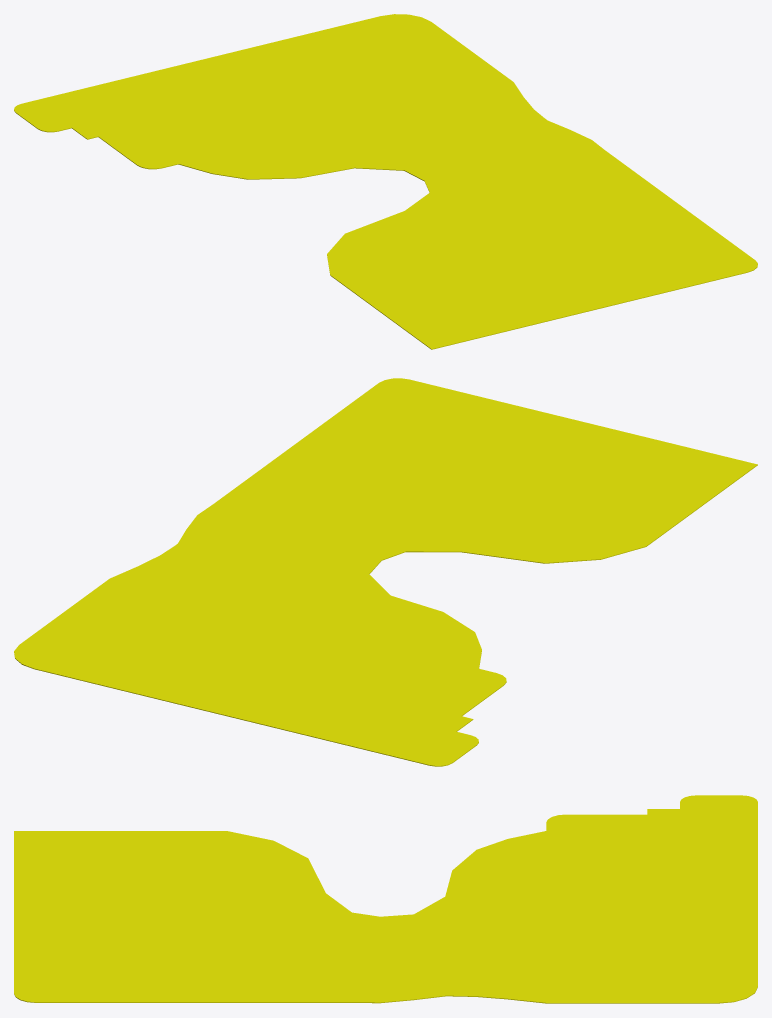
The model's file is sm_hana_building_9f_ceiling.glb.
The picture shows the model from 3 angles, top to bottom: view 1: azimuth 30°, elevation 25°; view 2: azimuth 150°, elevation 25°; view 3: azimuth 270°, elevation 25°; orthographic projection. The views are drawn at different scales.
Visible parts, largest first — view 1: sm_hana_building_9f_ceiling; view 2: sm_hana_building_9f_ceiling; view 3: sm_hana_building_9f_ceiling.
Part boxes in pixels (box(x1,y1,x2,y2)): sm_hana_building_9f_ceiling: box(14, 14, 757, 349); sm_hana_building_9f_ceiling: box(14, 378, 757, 766); sm_hana_building_9f_ceiling: box(14, 795, 757, 1003).
Size of the model in its own units: 64.59 by 0.1016 by 97.91.
Materials: 1 (1 with a texture image).
